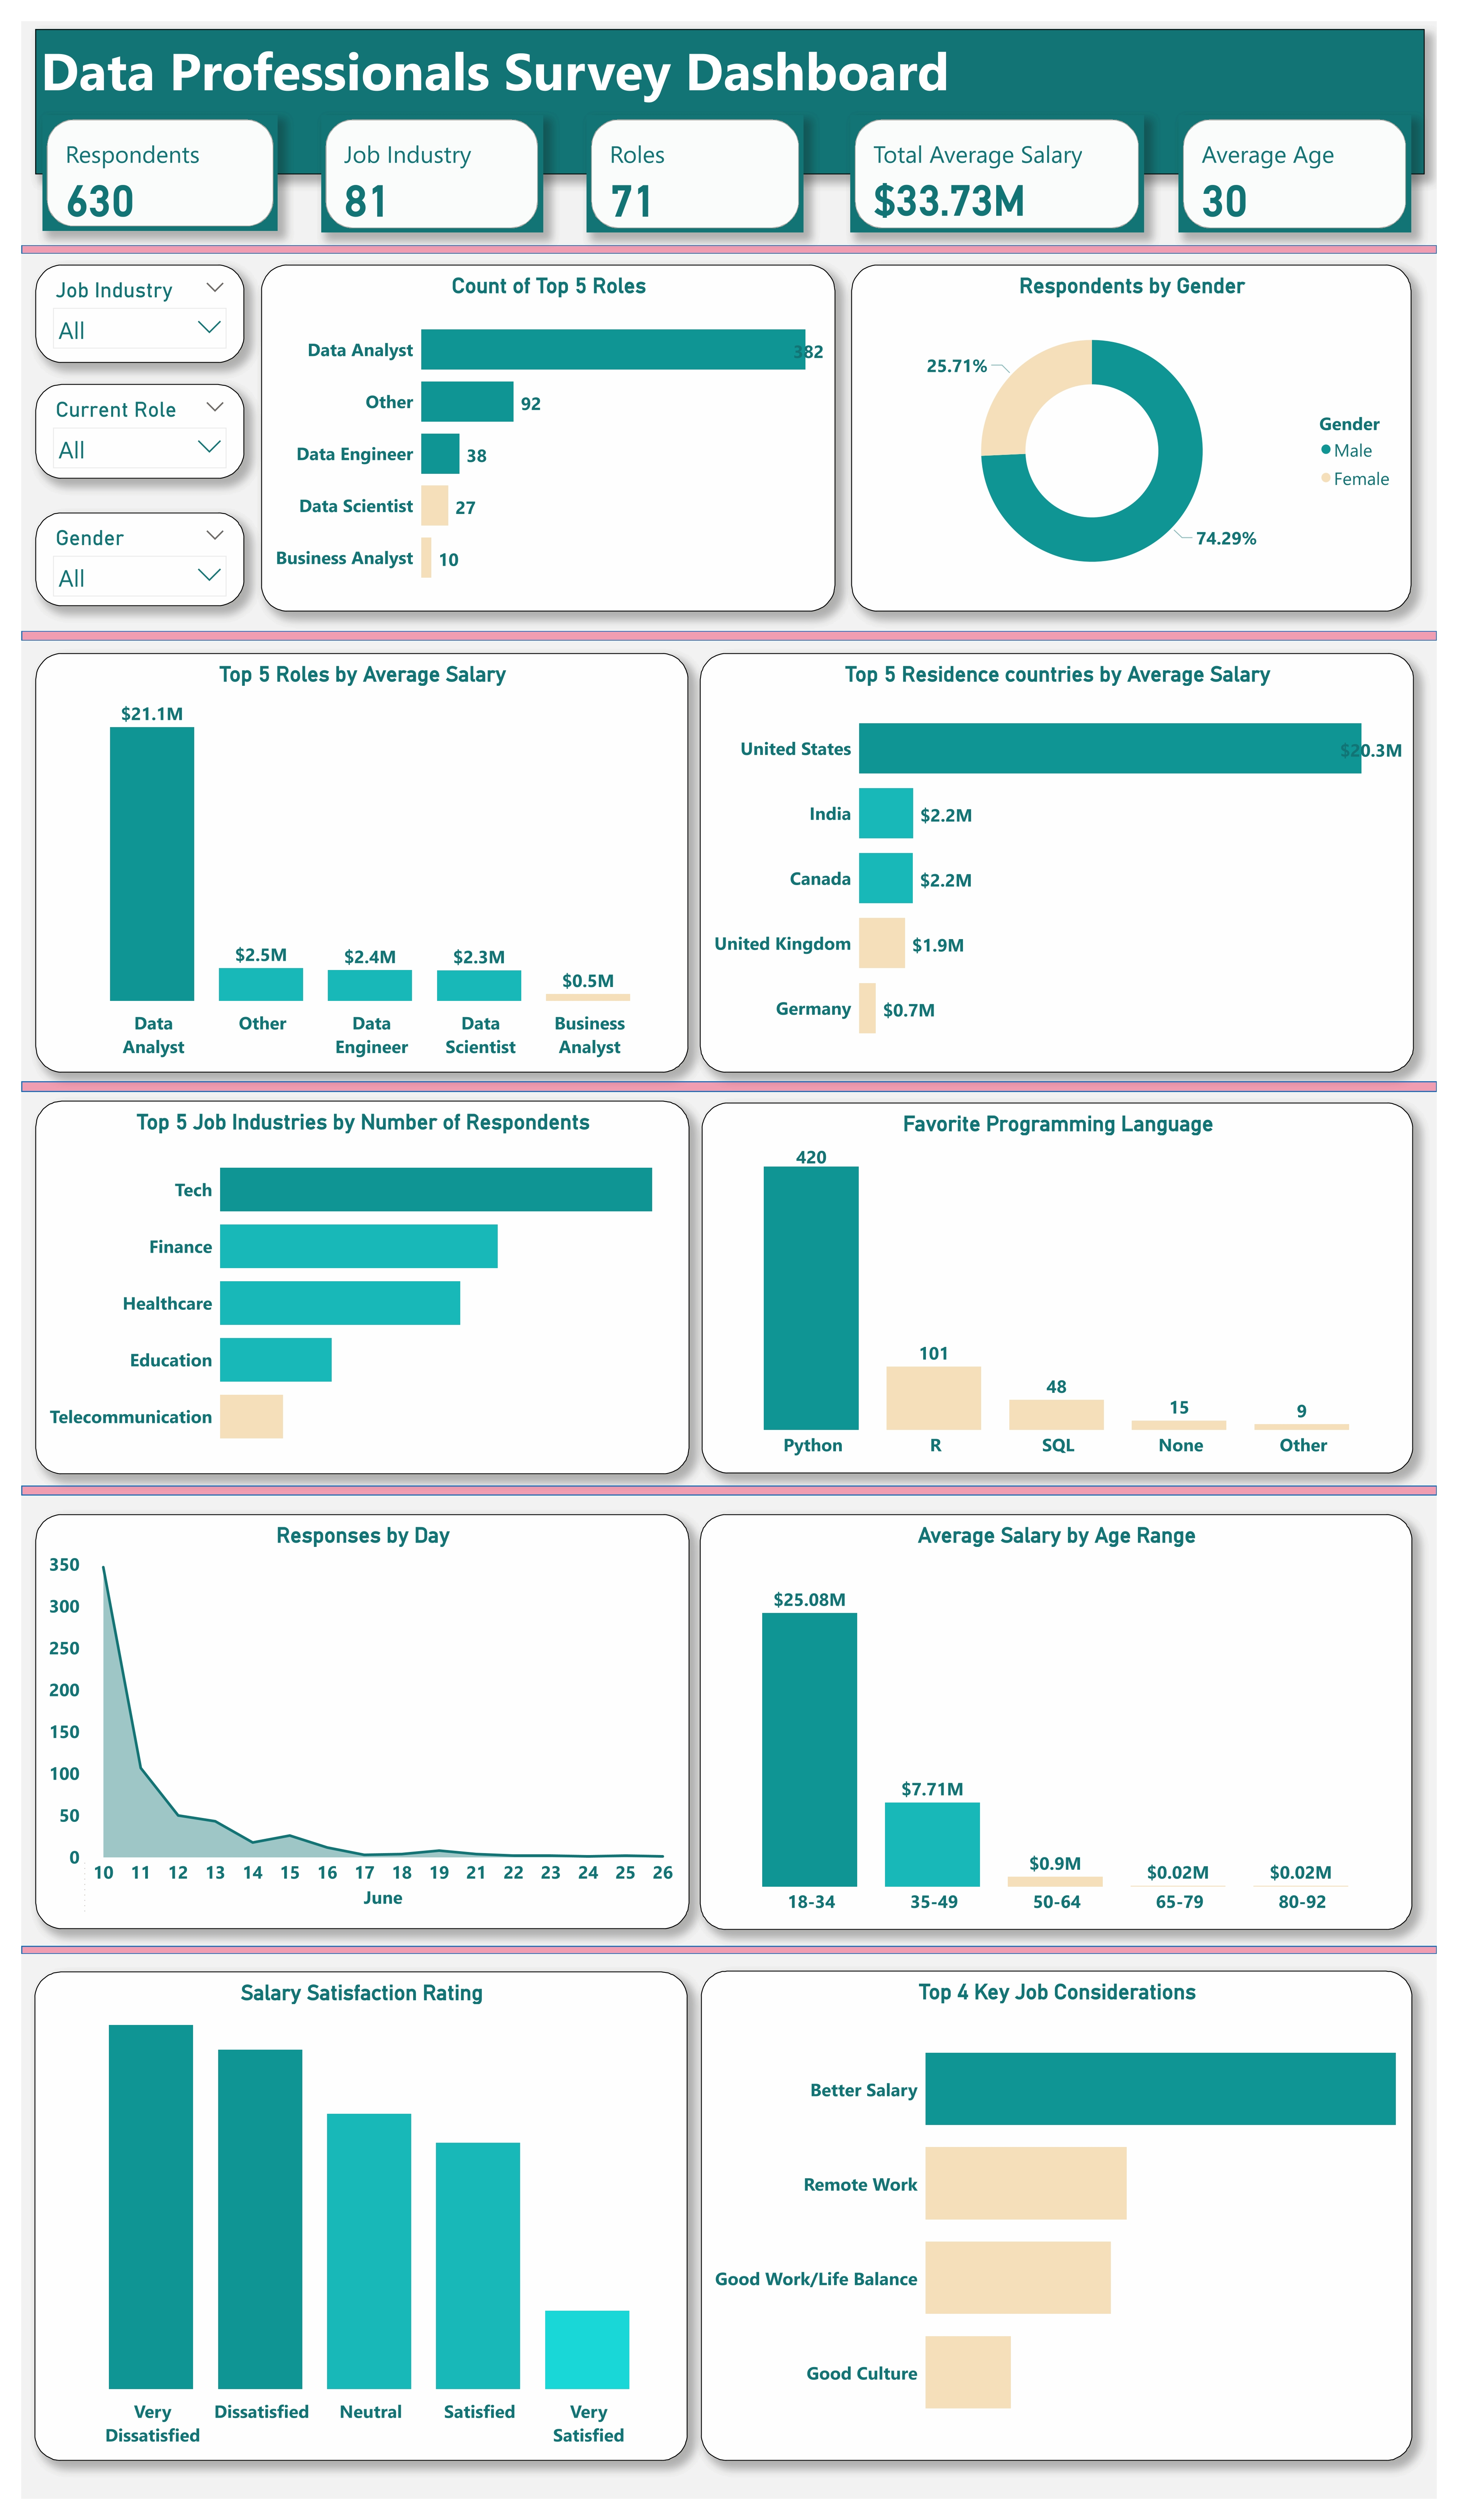

Layout of this report page (visuals, bound fields, positions):
{"tool":"powerbi","page":{"name":"Overview","canvas":[1600,2800],"ordinal":0},"visuals":[{"type":"textbox","box":[16.4,9.1,1570.9,161.8],"z":0},{"type":"slicer","fields":{"Values":["Data Professional Survey.Job Industry"]},"box":[16.1,261.3,235.5,124.2],"z":1000},{"type":"slicer","fields":{"Values":["Data Professional Survey.Current Role"]},"box":[16.1,409.7,235.5,121],"z":2000},{"type":"slicer","fields":{"Values":["Data Professional Survey.Gender"]},"box":[16.1,561.3,235.5,122.6],"z":3000},{"type":"cardVisual","fields":{"Data":["Count(Data Professional Survey.Unique ID)"]},"box":[23.5,105.9,266.7,131.4],"z":4000},{"type":"cardVisual","fields":{"Data":["Count(Data Professional Survey.Job Industry)"]},"box":[339.2,105.9,251,133.3],"z":5000},{"type":"cardVisual","fields":{"Data":["Count(Data Professional Survey.Current Role)"]},"box":[639.2,105.9,245.1,133.3],"z":6000},{"type":"cardVisual","fields":{"Data":["Sum(Data Professional Survey.Average Salary)"]},"box":[937.3,105.9,331.4,133.3],"z":7000},{"type":"cardVisual","fields":{"Data":["Avg(Data Professional Survey.Age)"]},"box":[1307.8,105.9,262.7,133.3],"z":8000},{"type":"barChart","title":"Count of Top 5 Roles","fields":{"Category":["Data Professional Survey.Current Role"],"Y":["CountNonNull(Data Professional Survey.Unique ID)"]},"box":[271,259.7,650,424.2],"z":9000},{"type":"donutChart","title":"Count of Respondents by Gender","fields":{"Y":["Count(Data Professional Survey.Unique ID)"],"Category":["Data Professional Survey.Gender"]},"box":[937,261.1,633.3,422.2],"z":10000},{"type":"clusteredColumnChart","title":"Top 5 Roles by Average Salary","fields":{"Category":["Data Professional Survey.Current Role"],"Y":["Sum(Data Professional Survey.Average Salary)"]},"box":[15.6,700,737.8,508.9],"z":11000},{"type":"barChart","title":"Top 10 Residence countries by Average Salary","fields":{"Category":["Data Professional Survey.Residence Country"],"Y":["Sum(Data Professional Survey.Average Salary)"]},"box":[766.7,700,803,509.1],"z":12000},{"type":"barChart","title":"Top 10 Job Industries by Number of Respondents","fields":{"Category":["Data Professional Survey.Job Industry"],"Y":["Count(Data Professional Survey.Unique ID)"]},"box":[15.6,1220,740,444.4],"z":13000},{"type":"columnChart","title":"Count of Favorite Programming Language","fields":{"Category":["Data Professional Survey.Favorite Programming Language"],"Y":["CountNonNull(Data Professional Survey.Favorite Programming Language)"]},"box":[763.6,1221.2,809.1,442.4],"z":14000},{"type":"lineChart","title":"Count of Responses by  Day","fields":{"Y":["Count(Data Professional Survey.Unique ID)"],"Category":["Data Professional Survey.Date Taken.Variation.Date Hierarchy.Month","Data Professional Survey.Date Taken.Variation.Date Hierarchy.Day"]},"box":[15.6,1675.6,740,500],"z":15000},{"type":"columnChart","title":"Average Salary by Age Range","fields":{"Category":["Data Professional Survey.Age Range"],"Y":["Sum(Data Professional Survey.Average Salary)"]},"box":[766.7,1675.8,806.1,500],"z":16000},{"type":"columnChart","title":"Count of Salary Satisfaction Rating","fields":{"Category":["Data Professional Survey.Salary Satisfaction Rating"],"Y":["CountNonNull(Data Professional Survey.Unique ID)"]},"box":[15.6,2184.4,740,571.1],"z":17000},{"type":"barChart","title":"Count of Key Job Considerations","fields":{"Category":["Data Professional Survey.Key Job Considerations"],"Y":["CountNonNull(Data Professional Survey.Unique ID)"]},"box":[767.6,2183.4,805.4,572.6],"z":18000}]}

Visuals, with their boxes in screenshot pixels (x1, y1, x2, y2), scaled from the page's 1600x2800 canvas onto the 1458x2520 screenshot:
textbox: bbox(15, 8, 1446, 154)
slicer - Data Professional Survey.Job Industry: bbox(15, 235, 229, 347)
slicer - Data Professional Survey.Current Role: bbox(15, 369, 229, 478)
slicer - Data Professional Survey.Gender: bbox(15, 505, 229, 616)
cardVisual - Count(Data Professional Survey.Unique ID): bbox(21, 95, 264, 214)
cardVisual - Count(Data Professional Survey.Job Industry): bbox(309, 95, 538, 215)
cardVisual - Count(Data Professional Survey.Current Role): bbox(583, 95, 806, 215)
cardVisual - Sum(Data Professional Survey.Average Salary): bbox(854, 95, 1156, 215)
cardVisual - Avg(Data Professional Survey.Age): bbox(1192, 95, 1431, 215)
"Count of Top 5 Roles" barChart: bbox(247, 234, 839, 616)
"Count of Respondents by Gender" donutChart: bbox(854, 235, 1431, 615)
"Top 5 Roles by Average Salary" clusteredColumnChart: bbox(14, 630, 687, 1088)
"Top 10 Residence countries by Average Salary" barChart: bbox(698, 630, 1430, 1088)
"Top 10 Job Industries by Number of Respondents" barChart: bbox(14, 1098, 688, 1498)
"Count of Favorite Programming Language" columnChart: bbox(696, 1099, 1433, 1497)
"Count of Responses by  Day" lineChart: bbox(14, 1508, 688, 1958)
"Average Salary by Age Range" columnChart: bbox(698, 1508, 1433, 1958)
"Count of Salary Satisfaction Rating" columnChart: bbox(14, 1966, 688, 2480)
"Count of Key Job Considerations" barChart: bbox(700, 1965, 1433, 2480)
